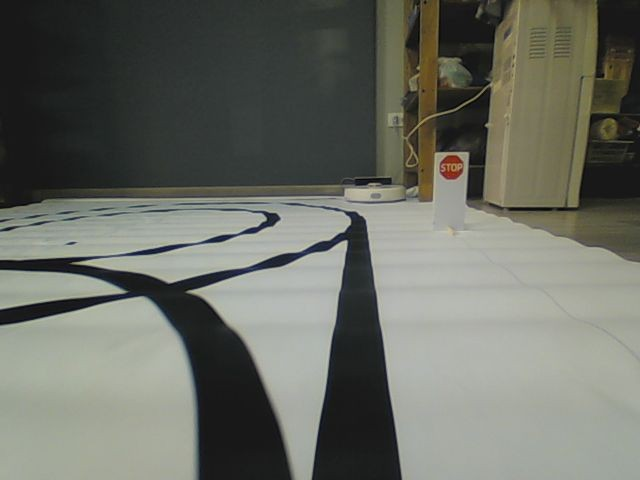Stop: (436, 154, 464, 181)
